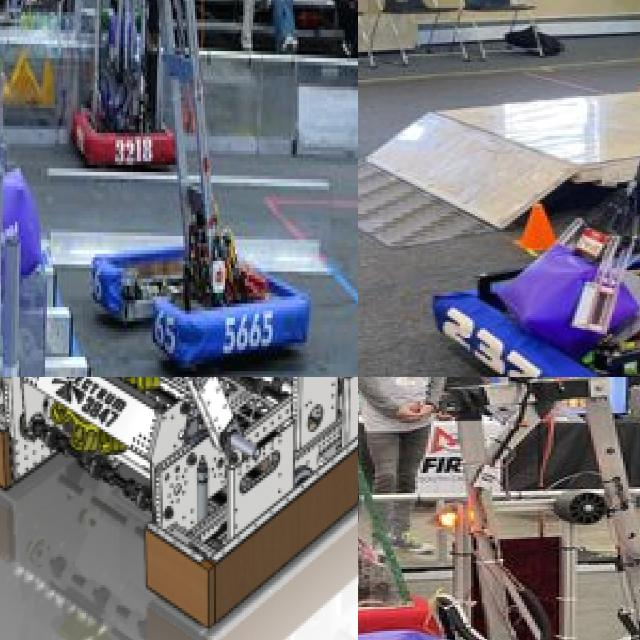FRC-Robots: (0, 0, 350, 377), (358, 0, 640, 377), (0, 377, 358, 605), (358, 385, 640, 640), (74, 0, 182, 173), (358, 377, 390, 640)
